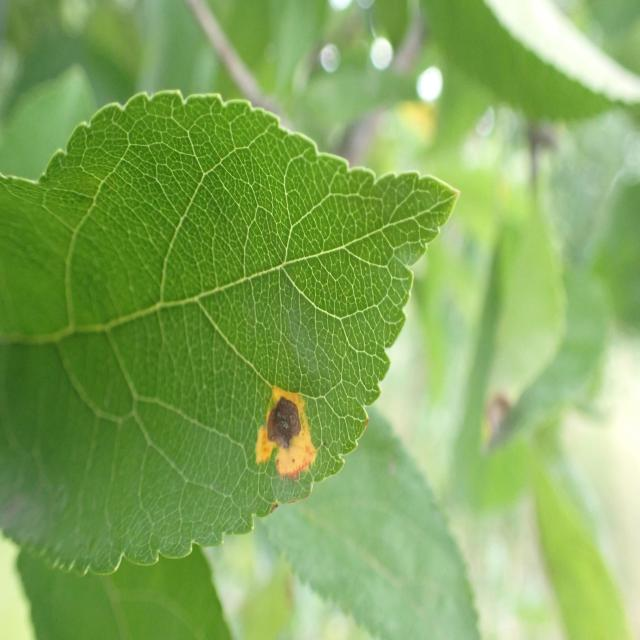Rust: (250, 368, 318, 486)
